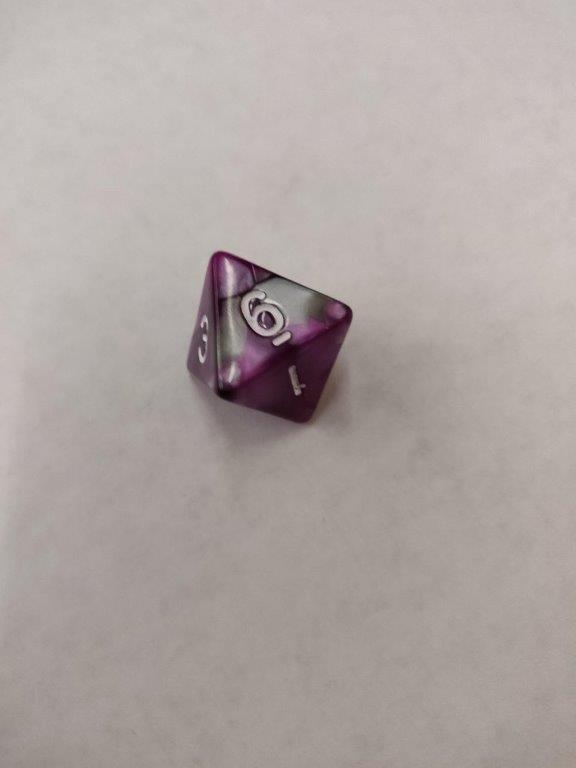d8-6: (187, 250, 354, 426)
